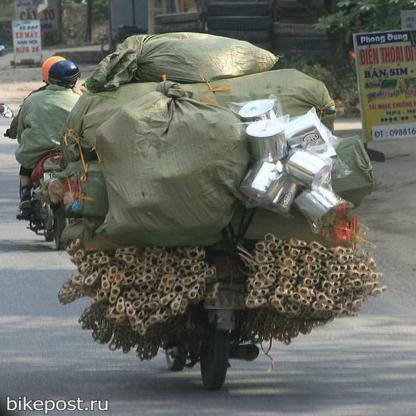overloaded-truck: (52, 32, 375, 384)
